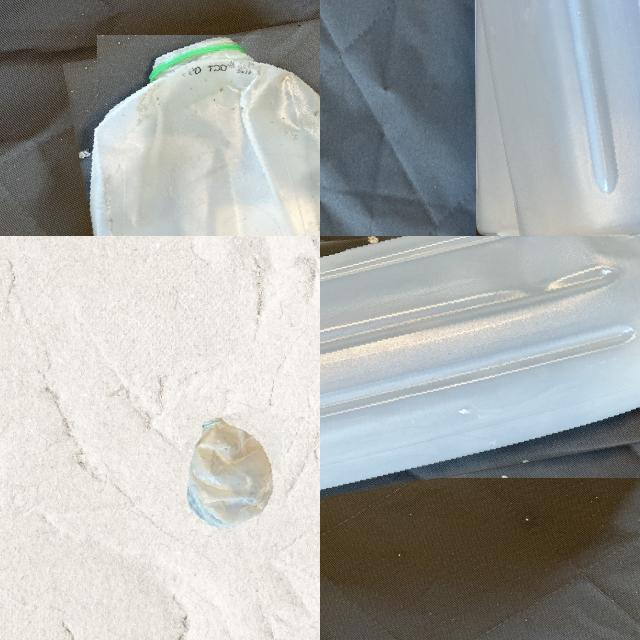milk-jug: (320, 236, 640, 500), (79, 23, 320, 236), (451, 0, 640, 236), (182, 411, 286, 534)
